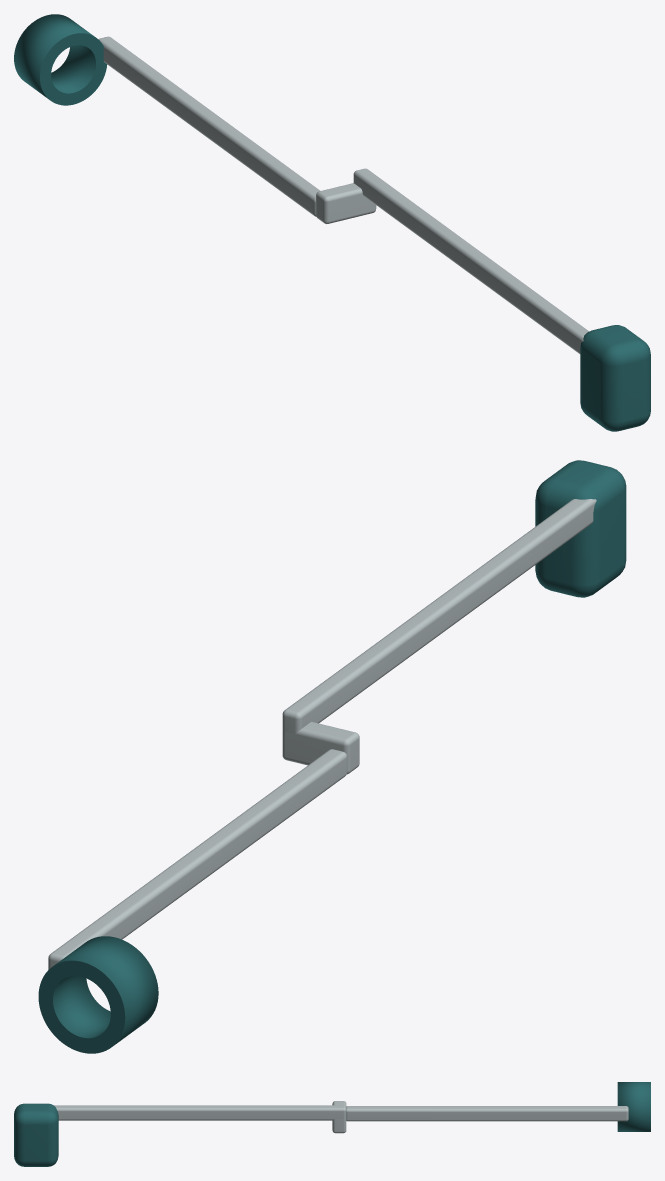
Rendered from tip_ejector.glb.
The picture shows the model from 3 angles, top to bottom: view 1: azimuth 30°, elevation 25°; view 2: azimuth 150°, elevation 25°; view 3: azimuth 270°, elevation 25°; orthographic projection. The views are drawn at different scales.
Visible parts, largest first — view 1: ejector_upper_rod, ejector_button, ejector_rod, ejector_collar, ejector_bridge; view 2: ejector_upper_rod, ejector_collar, ejector_rod, ejector_button, ejector_bridge; view 3: ejector_upper_rod, ejector_rod, ejector_button, ejector_collar, ejector_bridge.
Boxes of the visible parts, x1=… form: ejector_upper_rod: x1=353, y1=168, x2=588, y2=353; ejector_button: x1=580, y1=325, x2=650, y2=431; ejector_rod: x1=98, y1=36, x2=320, y2=216; ejector_collar: x1=14, y1=14, x2=107, y2=105; ejector_bridge: x1=316, y1=183, x2=376, y2=224; ejector_upper_rod: x1=282, y1=499, x2=596, y2=733; ejector_collar: x1=38, y1=936, x2=158, y2=1053; ejector_rod: x1=48, y1=749, x2=347, y2=969; ejector_button: x1=535, y1=460, x2=626, y2=597; ejector_bridge: x1=282, y1=722, x2=359, y2=774; ejector_upper_rod: x1=54, y1=1105, x2=346, y2=1120; ejector_rod: x1=346, y1=1106, x2=628, y2=1121; ejector_button: x1=14, y1=1103, x2=58, y2=1166; ejector_collar: x1=617, y1=1082, x2=650, y2=1131; ejector_bridge: x1=332, y1=1101, x2=346, y2=1133.
Bounding box in the file's own units: 0.0395 × 0.022 × 0.229.
